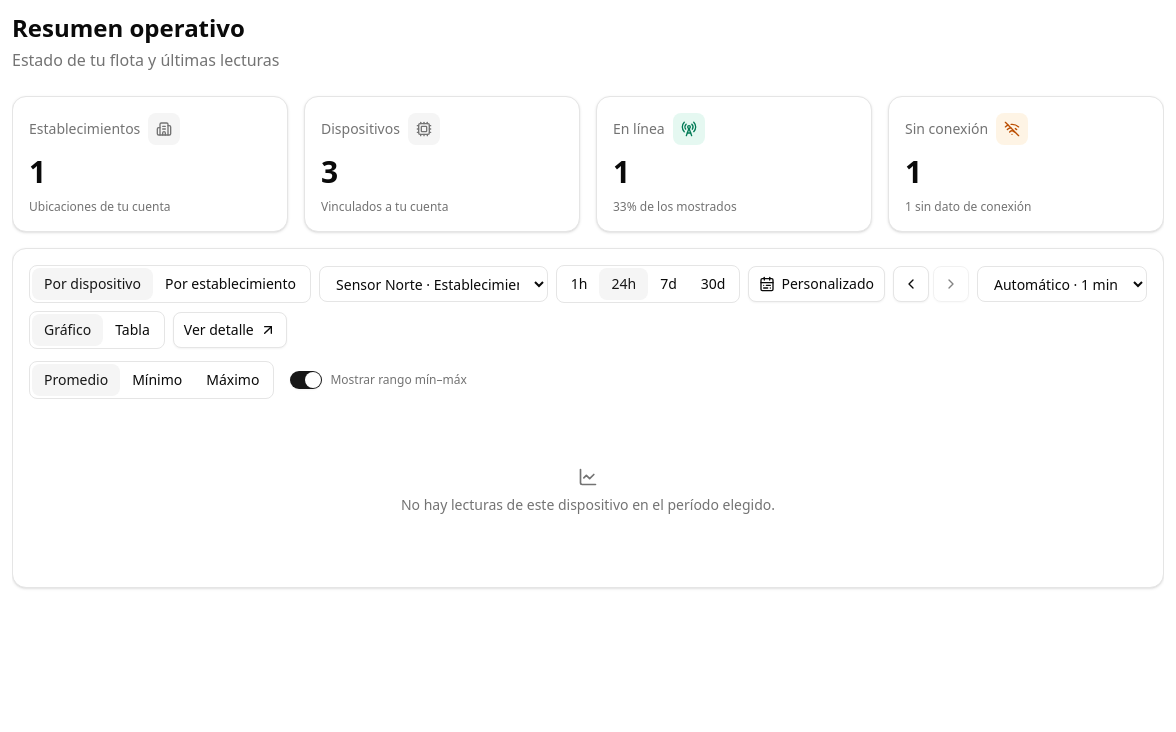
it: OverviewPage operational dashboard › shows empty chart and records states when the device has no readings
This screenshot has width=1176, height=732.
Expected: the text "No hay lecturas de este dispositivo en el período elegido." is shown, [401,495,775,515]
Click the button "Tabla" at (132, 330), box [103,314,162,346]
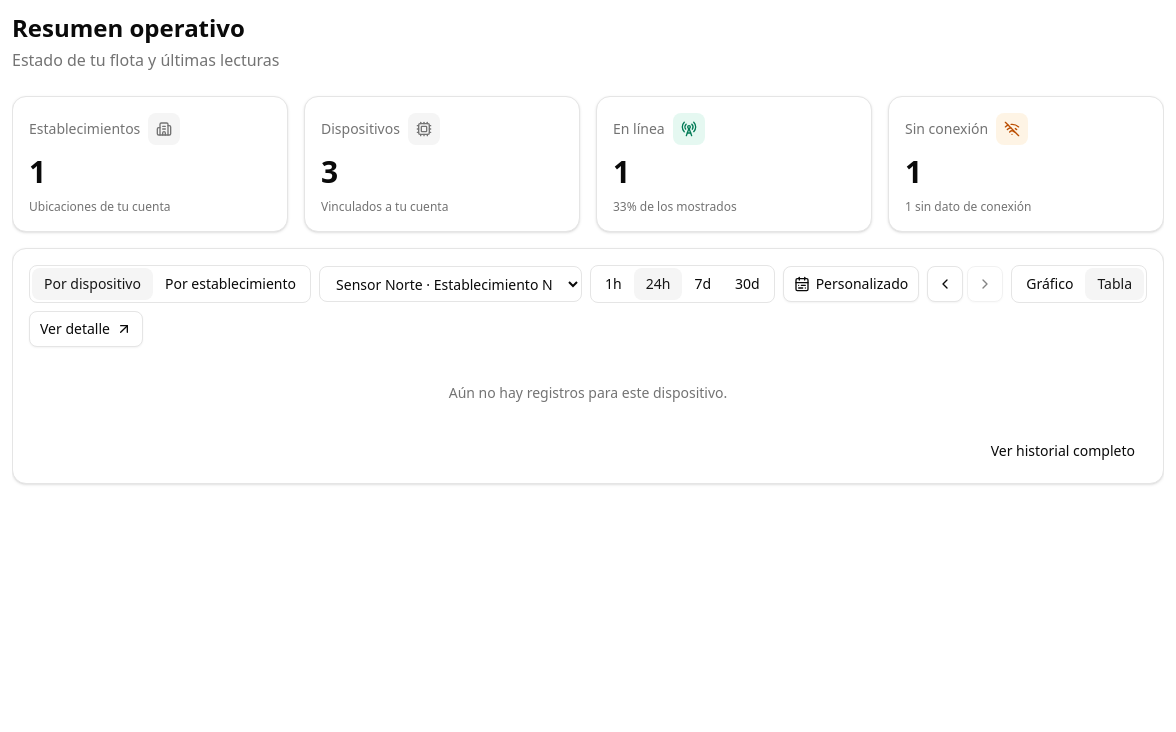
Expected: the text "Aún no hay registros para este dispositivo." is shown, [449,383,727,402]
